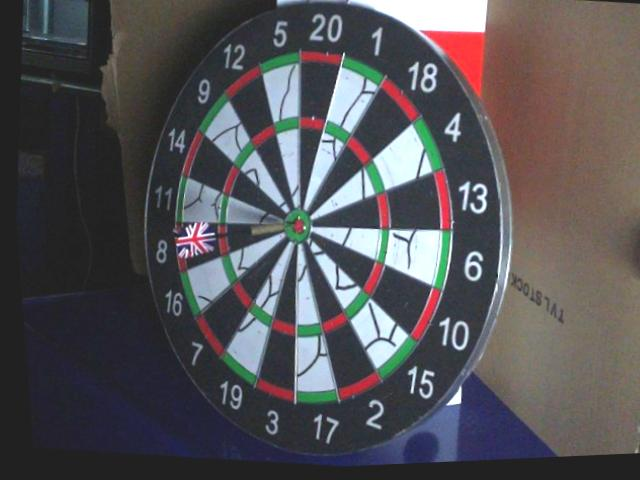bullseye: (284, 210, 311, 243)
